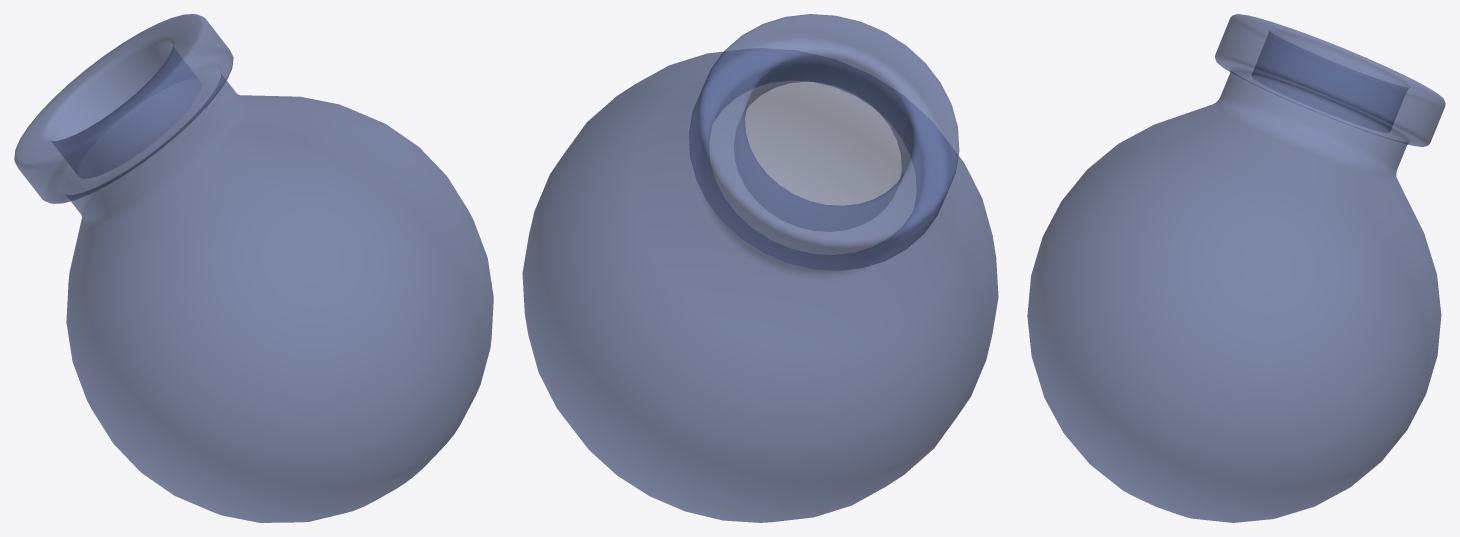
The model's file is bottle.fbx.
3 renders of one model, left to right at view 1: azimuth 30°, elevation 25°; view 2: azimuth 150°, elevation 25°; view 3: azimuth 270°, elevation 25°, orthographic. The views are drawn at different scales.
Parts seen in each view (by area): view 1: bottle; view 2: bottle; view 3: bottle.
Part boxes in pixels (x1,y1,x2,y2): bottle: (14,14,493,522); bottle: (522,14,998,522); bottle: (1027,14,1445,522).
Size of the model in its own units: 2.54 by 2.9 by 2.43.
